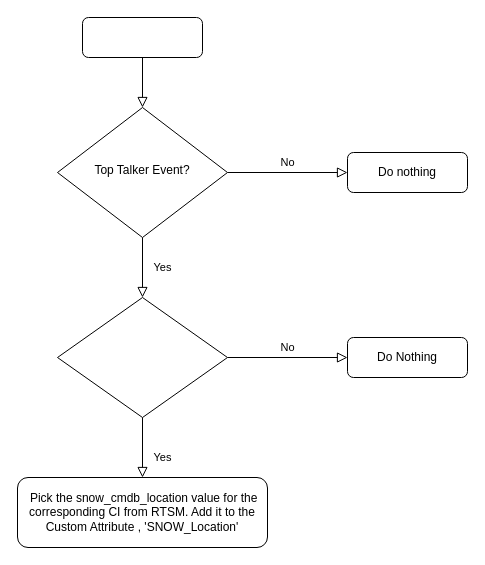
The diagram is 485 pixels wide and 565 high, and some of its shapes have lost their labels. Here are the shapes that lost their labels. From the top down, the centre of each, then its label:
At point 142,37: "Event in OMi".
At point 142,357: "CI under OMiOwnerRes Query ?".
